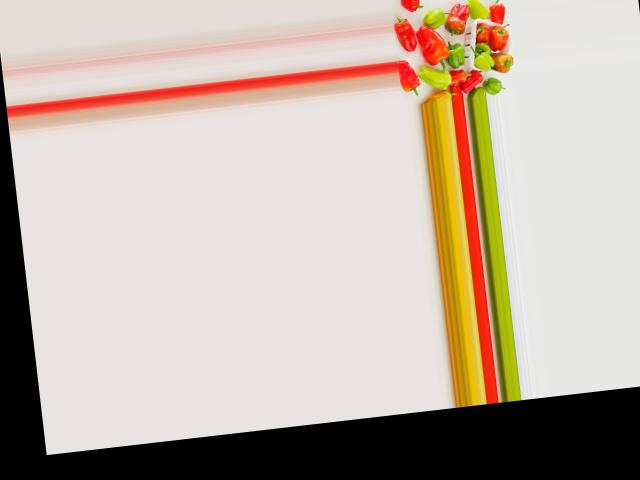bell_pepper: (397, 63, 424, 98)
